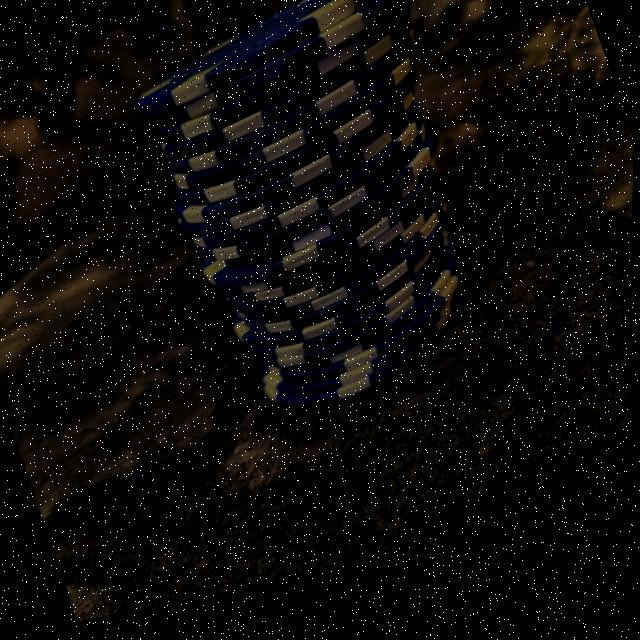Chip: (77, 0, 567, 513)
